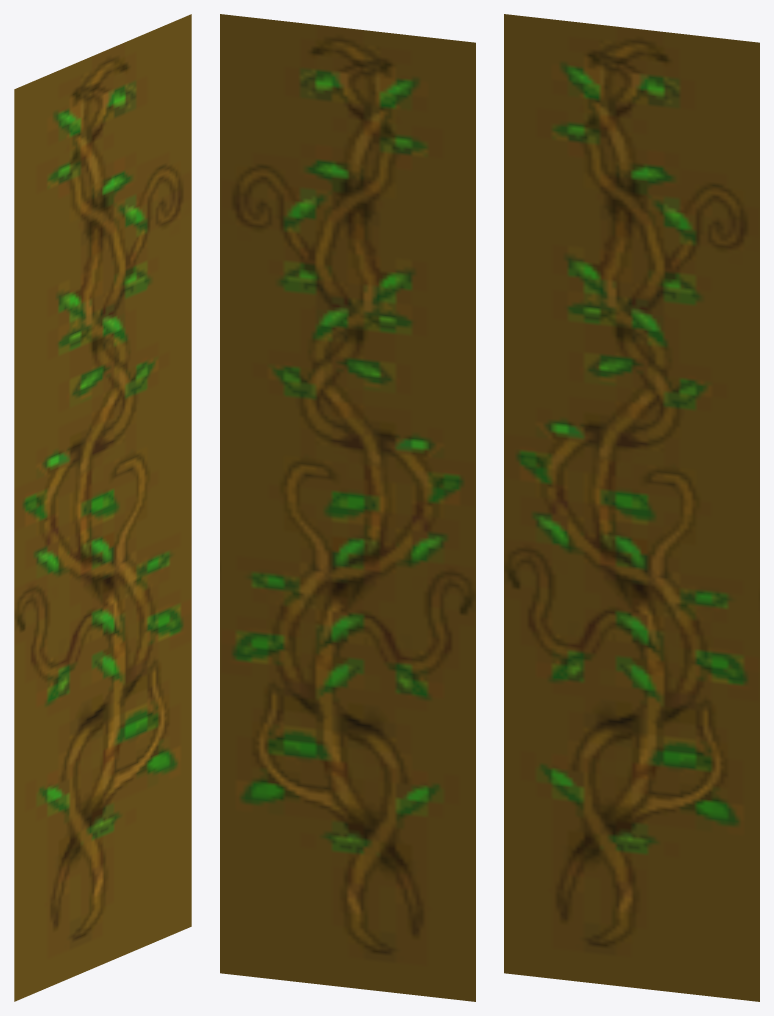
Rendered from EKH_GROTTO_PS_GR_PLANE274.fbx.
3 views of the same model, side by side, from view 1: azimuth 30°, elevation 25°; view 2: azimuth 150°, elevation 25°; view 3: azimuth 330°, elevation 25° (orthographic). The views are drawn at different scales.
Parts seen in each view (by area): view 1: EKH_GROTTO_PS_GR_PLANE274; view 2: EKH_GROTTO_PS_GR_PLANE274; view 3: EKH_GROTTO_PS_GR_PLANE274.
Part boxes in pixels (bbox=[...]): EKH_GROTTO_PS_GR_PLANE274: bbox=[14, 14, 191, 1001]; EKH_GROTTO_PS_GR_PLANE274: bbox=[220, 14, 475, 1001]; EKH_GROTTO_PS_GR_PLANE274: bbox=[504, 14, 759, 1001].
Bounding box in the file's own units: 6659 × 27592 × 1801.
1 material, 1 textured.
